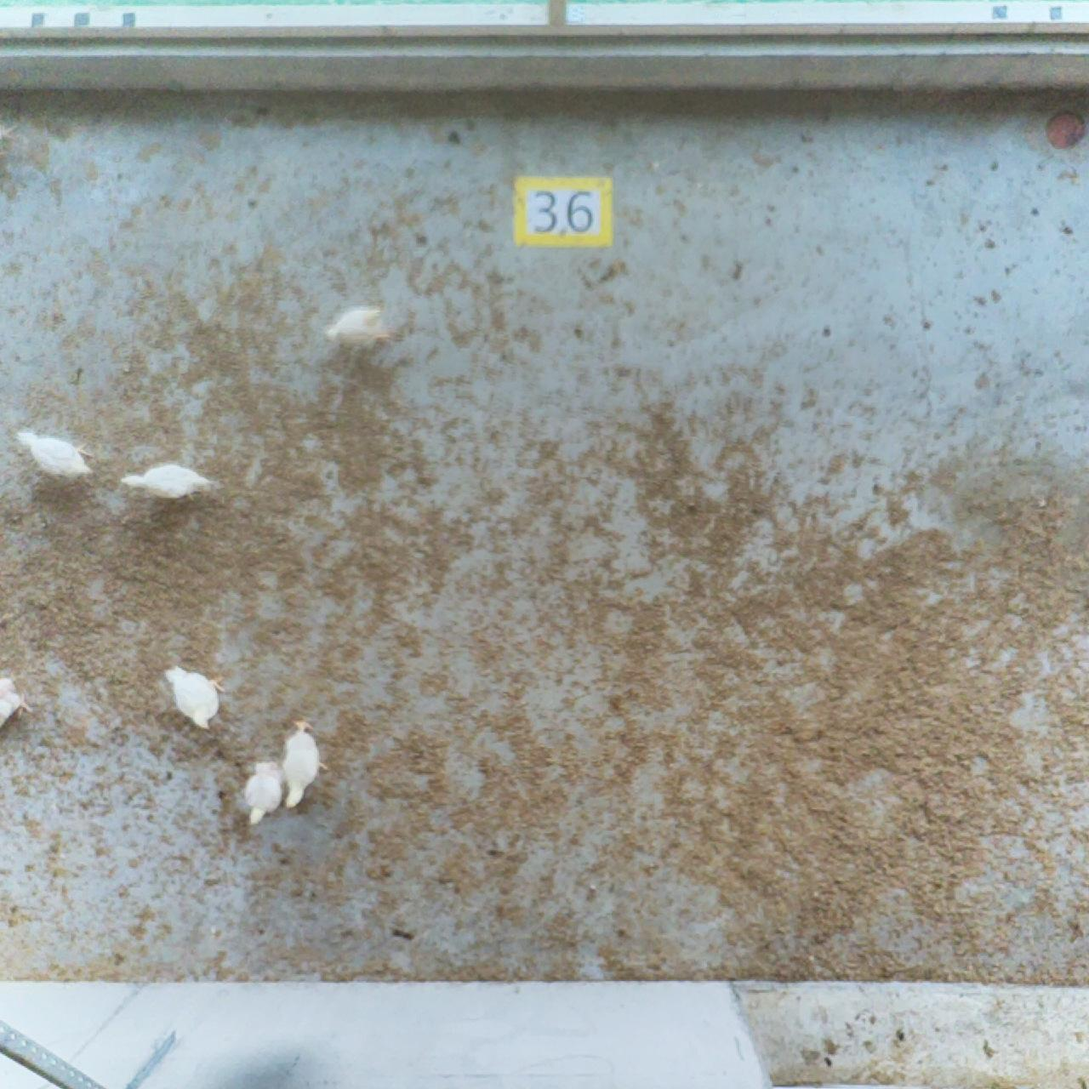chicken: (11, 415, 96, 487), (160, 655, 232, 738), (278, 714, 331, 815), (115, 456, 220, 506), (319, 299, 399, 359), (240, 754, 289, 828), (0, 666, 37, 733)
